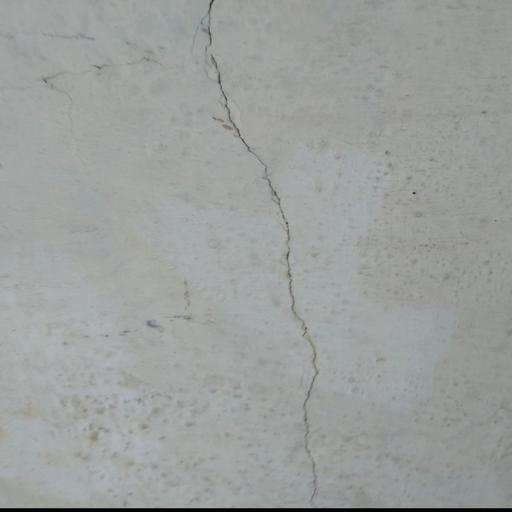minor_crack: (196, 0, 321, 512)
